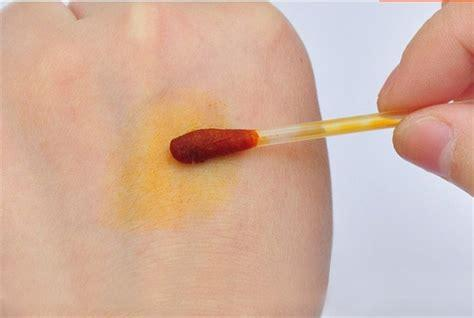cotton: (164, 128, 266, 167)
